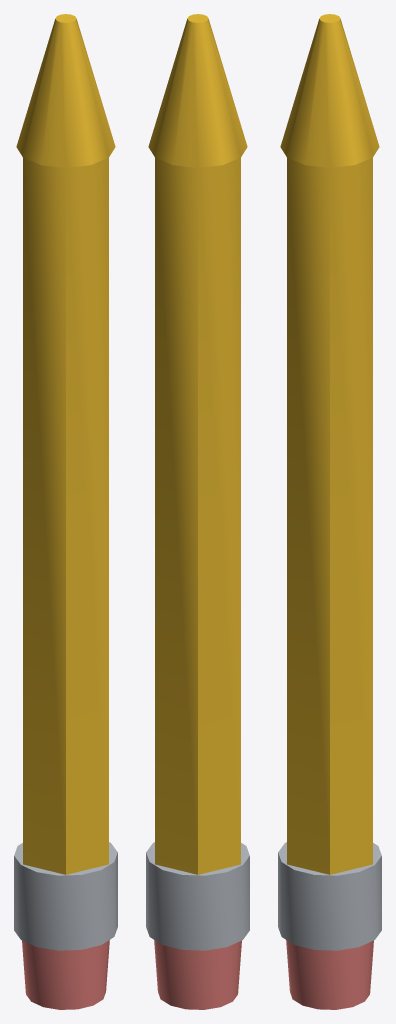
The model's file is pencil.glb.
3 renders of one model, left to right at view 1: azimuth 30°, elevation 25°; view 2: azimuth 150°, elevation 25°; view 3: azimuth 330°, elevation 25°, orthographic.
Visible parts, largest first — view 1: pencil; view 2: pencil; view 3: pencil.
Part boxes in pixels (bbox=[...]): pencil: bbox=[14, 14, 117, 1009]; pencil: bbox=[146, 14, 249, 1009]; pencil: bbox=[278, 14, 381, 1009].
Bounding box in the file's own units: 0.0087 × 0.09 × 0.00849.
